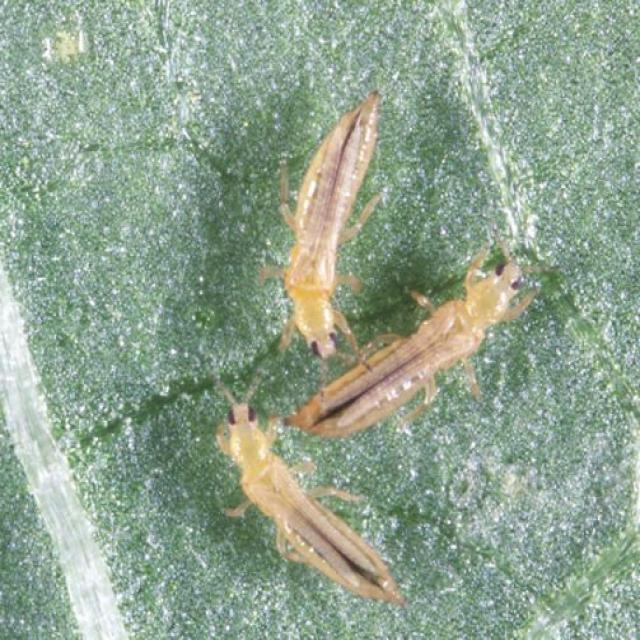Thrip-Adult-: (275, 241, 556, 438), (206, 382, 412, 606), (267, 76, 383, 360)
